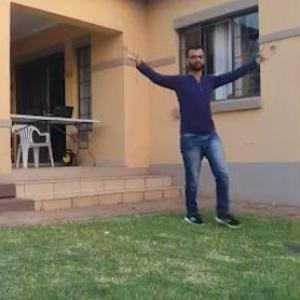takeoff: (114, 49, 270, 224)
